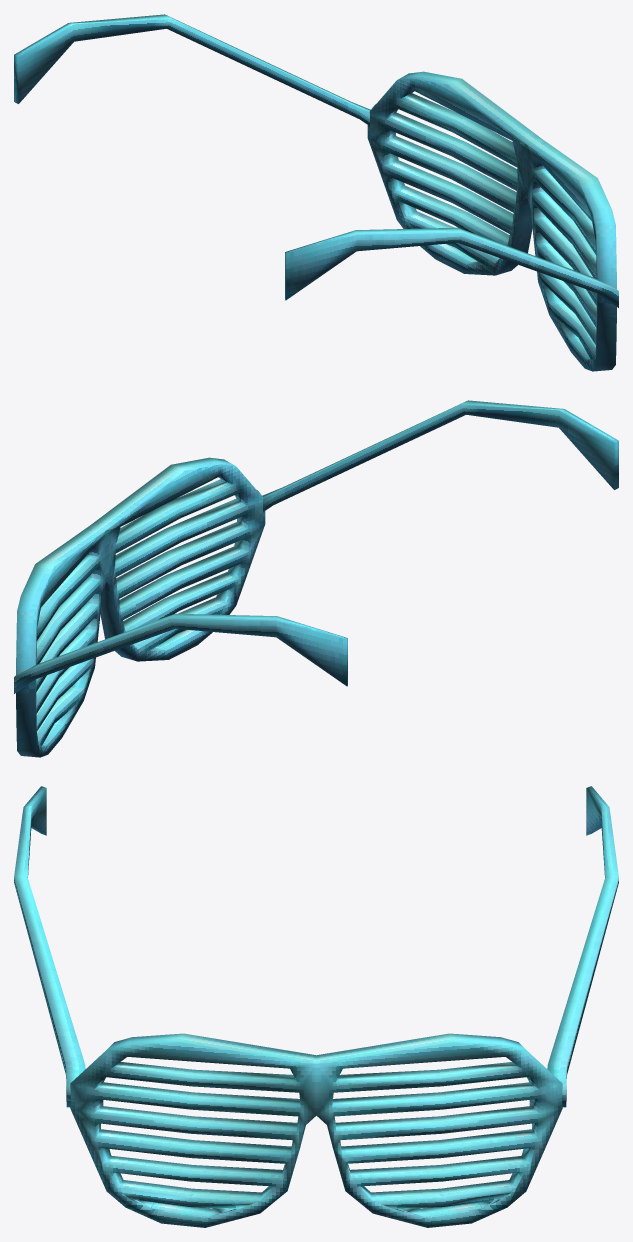
3 renders of one model, top to bottom at view 1: azimuth 30°, elevation 25°; view 2: azimuth 150°, elevation 25°; view 3: azimuth 270°, elevation 25°, orthographic.
Parts seen in each view (by area): view 1: BLUE_SHUTTERS; view 2: BLUE_SHUTTERS; view 3: BLUE_SHUTTERS.
Boxes of the visible parts, x1,y1,x2,y2 form: BLUE_SHUTTERS: (14,14,618,371); BLUE_SHUTTERS: (14,400,618,757); BLUE_SHUTTERS: (14,786,618,1227).
Size of the model in its own units: 0.1983 by 0.1249 by 0.2603.
Materials: 1 (1 with a texture image).
